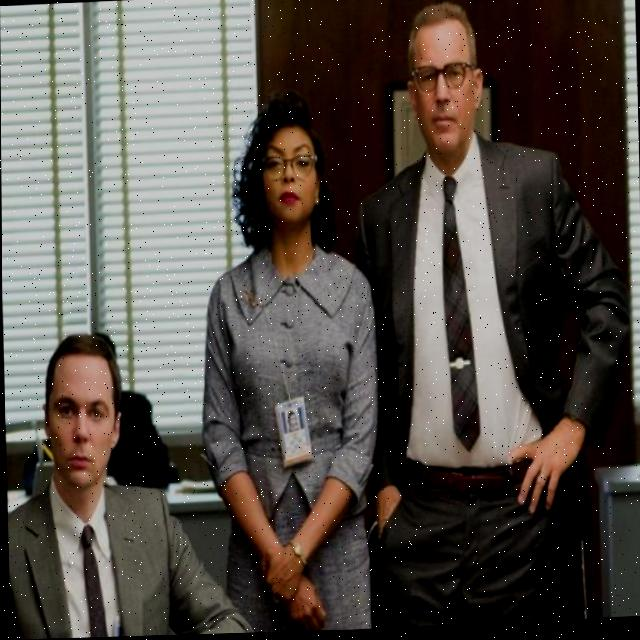id_card: (256, 238, 324, 480)
